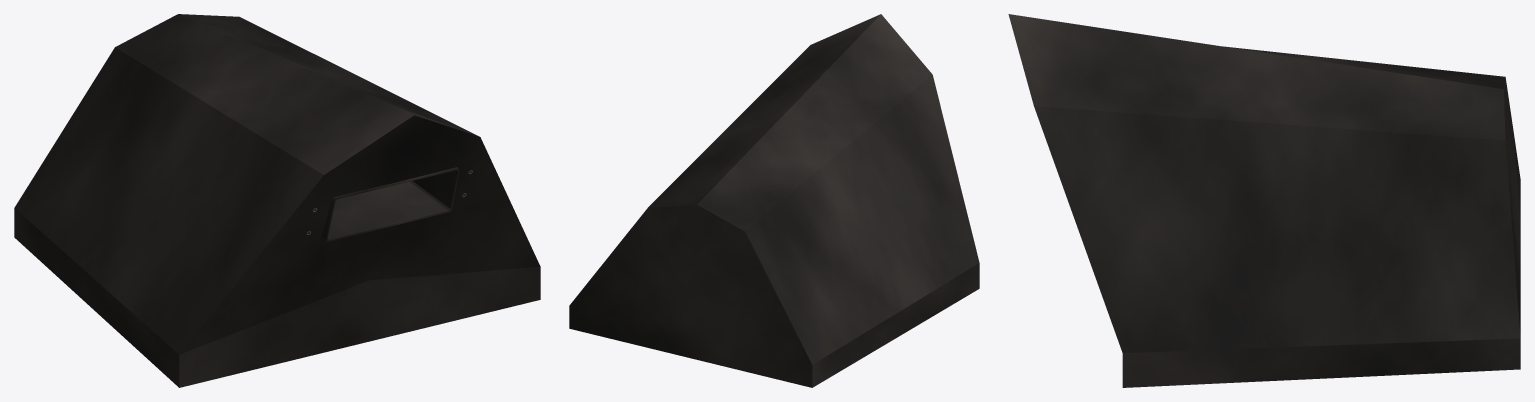
File: e_af_hangar_d_model.fbx
3 renders of one model, left to right at view 1: azimuth 30°, elevation 25°; view 2: azimuth 150°, elevation 25°; view 3: azimuth 270°, elevation 25°, orthographic. The views are drawn at different scales.
Parts seen in each view (by area): view 1: polySurface23; view 2: polySurface23; view 3: polySurface23.
Boxes of the visible parts, x1,y1,x2,y2 form: polySurface23: [14, 14, 540, 387]; polySurface23: [569, 14, 979, 387]; polySurface23: [1008, 14, 1520, 387].
Bounding box in the file's own units: 3395 × 2411 × 3974.
2 materials, 1 textured.
